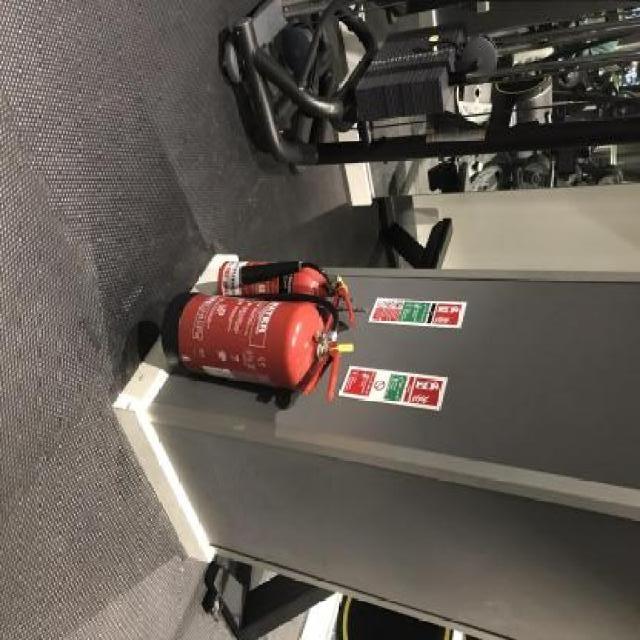fire extinguisher: (163, 291, 343, 400), (221, 262, 353, 329)
